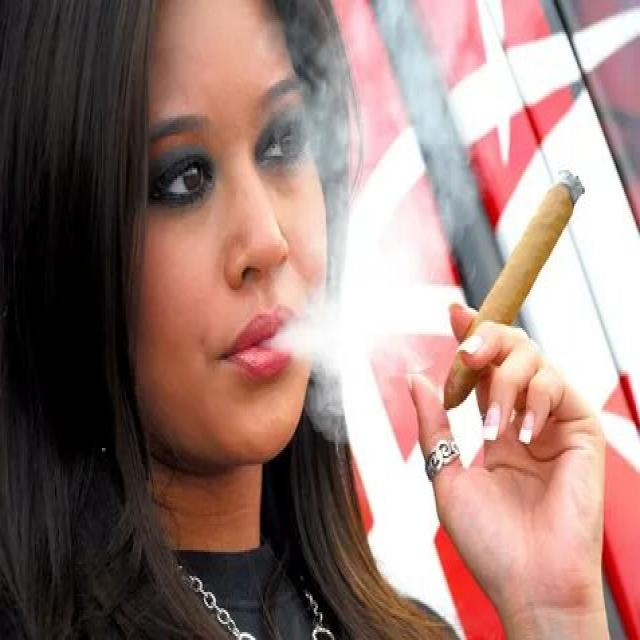cigarette: (437, 162, 593, 420)
